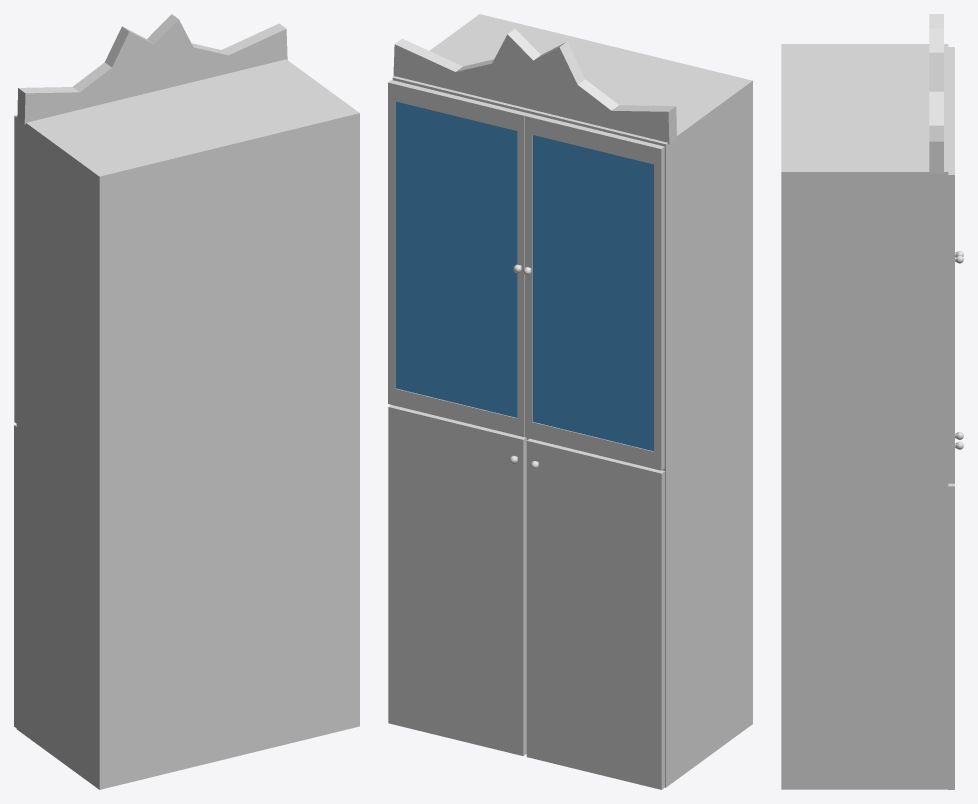
File: SZAFKA szyba.fbx
3 renders of one model, left to right at view 1: azimuth 30°, elevation 25°; view 2: azimuth 150°, elevation 25°; view 3: azimuth 270°, elevation 25°, orthographic. The views are drawn at different scales.
Parts seen in each view (by area): view 1: Cube.001, Kostka.009, Kostka.003, Kostka.008; view 2: Cube.001, Kostka.008, Kostka.004, Kostka.001, Kostka.002, Kostka.009, Kostka.003, Kostka; view 3: Cube.001, Kostka, Kostka.009, Kostka.004, Kostka.003.
Part boxes in pixels (x1=…): Cube.001: x1=16, y1=59, x2=359, y2=789; Kostka.009: x1=17, y1=14, x2=287, y2=124; Kostka.003: x1=14, y1=115, x2=17, y2=423; Kostka.008: x1=14, y1=424, x2=16, y2=727; Cube.001: x1=392, y1=14, x2=752, y2=787; Kostka.008: x1=526, y1=438, x2=664, y2=789; Kostka.004: x1=388, y1=405, x2=526, y2=755; Kostka.001: x1=395, y1=101, x2=517, y2=417; Kostka.002: x1=532, y1=135, x2=653, y2=451; Kostka.009: x1=393, y1=29, x2=676, y2=144; Kostka.003: x1=525, y1=113, x2=664, y2=470; Kostka: x1=388, y1=80, x2=527, y2=437; Cube.001: x1=781, y1=44, x2=948, y2=789; Kostka: x1=948, y1=111, x2=954, y2=483; Kostka.009: x1=929, y1=14, x2=943, y2=173; Kostka.004: x1=948, y1=483, x2=954, y2=789; Kostka.003: x1=948, y1=47, x2=954, y2=110.
Size of the model in its own units: 52.06 by 129 by 31.08.
